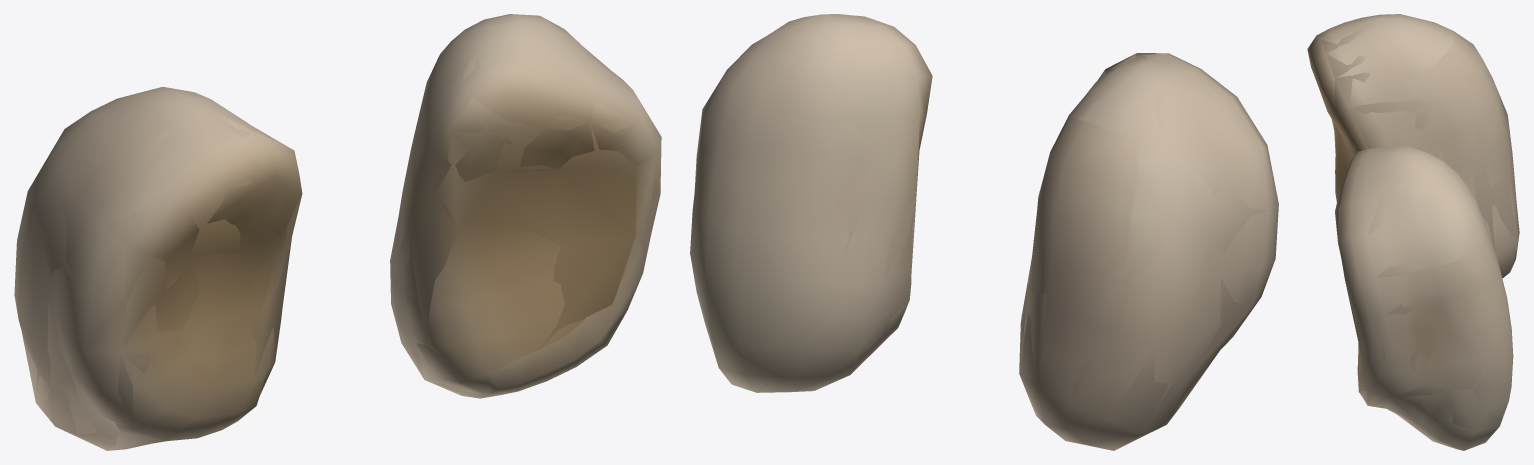
The model's file is FL sesamoidea proximalia.fbx.
3 renders of one model, left to right at view 1: azimuth 30°, elevation 25°; view 2: azimuth 150°, elevation 25°; view 3: azimuth 270°, elevation 25°, orthographic. The views are drawn at different scales.
Parts seen in each view (by area): view 1: FL sesamoidea proximalia, FL sesamoidea proximalia low; view 2: FL sesamoidea proximalia, FL sesamoidea proximalia low; view 3: FL sesamoidea proximalia, FL sesamoidea proximalia low.
Boxes of the visible parts, x1,y1,x2,y2 form: FL sesamoidea proximalia: (14, 14, 661, 450); FL sesamoidea proximalia low: (22, 36, 657, 450); FL sesamoidea proximalia: (690, 14, 1278, 450); FL sesamoidea proximalia low: (691, 33, 1267, 450); FL sesamoidea proximalia: (1307, 14, 1519, 450); FL sesamoidea proximalia low: (1308, 14, 1516, 447).
Bounding box in the file's own units: 4.94 × 3.33 × 2.14.
Materials: 1 (1 with a texture image).
